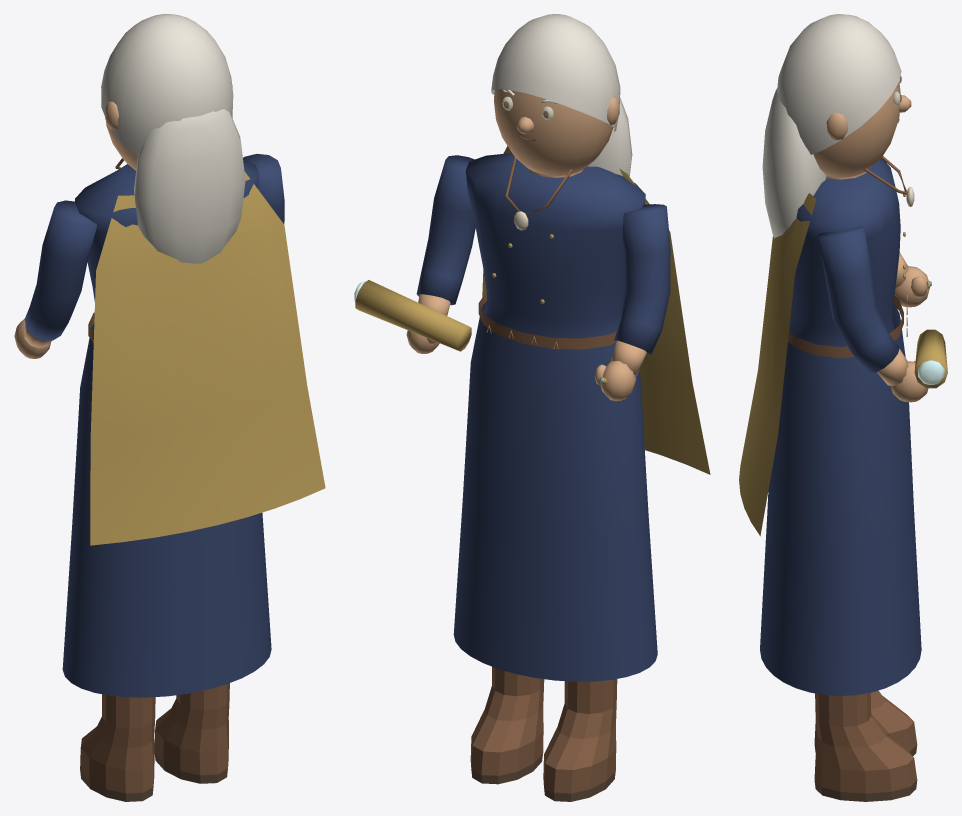
Rendered from SM_NPC_ESTRELLA.glb.
3 renders of one model, left to right at view 1: azimuth 30°, elevation 25°; view 2: azimuth 150°, elevation 25°; view 3: azimuth 270°, elevation 25°, orthographic. The views are drawn at different scales.
Parts seen in each view (by area): view 1: SM_NPC_ESTRELLA_BODY, SM_NPC_ESTRELLA_HAIR, SM_NPC_ESTRELLA_ARM_L, SM_NPC_ESTRELLA_LEG_L, SM_NPC_ESTRELLA_LEG_R, SM_NPC_ESTRELLA_ARM_R, SM_NPC_ESTRELLA_HEAD; view 2: SM_NPC_ESTRELLA_BODY, SM_NPC_ESTRELLA_HAIR, SM_NPC_ESTRELLA_ARM_R, SM_NPC_ESTRELLA_ARM_L, SM_NPC_ESTRELLA_LEG_L, SM_NPC_ESTRELLA_HEAD, SM_NPC_ESTRELLA_LEG_R; view 3: SM_NPC_ESTRELLA_BODY, SM_NPC_ESTRELLA_HAIR, SM_NPC_ESTRELLA_ARM_R, SM_NPC_ESTRELLA_LEG_R, SM_NPC_ESTRELLA_HEAD, SM_NPC_ESTRELLA_LEG_L, SM_NPC_ESTRELLA_ARM_L.
Part boxes in pixels (bbox=[...]): SM_NPC_ESTRELLA_BODY: bbox=[62, 158, 325, 697]; SM_NPC_ESTRELLA_HAIR: bbox=[101, 14, 245, 263]; SM_NPC_ESTRELLA_ARM_L: bbox=[14, 200, 96, 358]; SM_NPC_ESTRELLA_LEG_L: bbox=[80, 694, 155, 801]; SM_NPC_ESTRELLA_LEG_R: bbox=[154, 683, 229, 783]; SM_NPC_ESTRELLA_ARM_R: bbox=[243, 154, 284, 223]; SM_NPC_ESTRELLA_HEAD: bbox=[105, 85, 232, 170]; SM_NPC_ESTRELLA_BODY: bbox=[453, 146, 710, 681]; SM_NPC_ESTRELLA_HAIR: bbox=[491, 14, 632, 176]; SM_NPC_ESTRELLA_ARM_R: bbox=[354, 155, 475, 353]; SM_NPC_ESTRELLA_ARM_L: bbox=[594, 204, 670, 401]; SM_NPC_ESTRELLA_LEG_L: bbox=[543, 679, 617, 801]; SM_NPC_ESTRELLA_HEAD: bbox=[494, 89, 619, 175]; SM_NPC_ESTRELLA_LEG_R: bbox=[470, 666, 544, 784]; SM_NPC_ESTRELLA_BODY: bbox=[739, 156, 921, 695]; SM_NPC_ESTRELLA_HAIR: bbox=[762, 14, 901, 238]; SM_NPC_ESTRELLA_ARM_R: bbox=[817, 226, 947, 402]; SM_NPC_ESTRELLA_LEG_R: bbox=[814, 692, 917, 801]; SM_NPC_ESTRELLA_HEAD: bbox=[813, 82, 911, 177]; SM_NPC_ESTRELLA_LEG_L: bbox=[814, 690, 917, 755]; SM_NPC_ESTRELLA_ARM_L: bbox=[894, 252, 931, 307].
Bounding box in the file's own units: 0.6901 × 1.81 × 0.4561.
